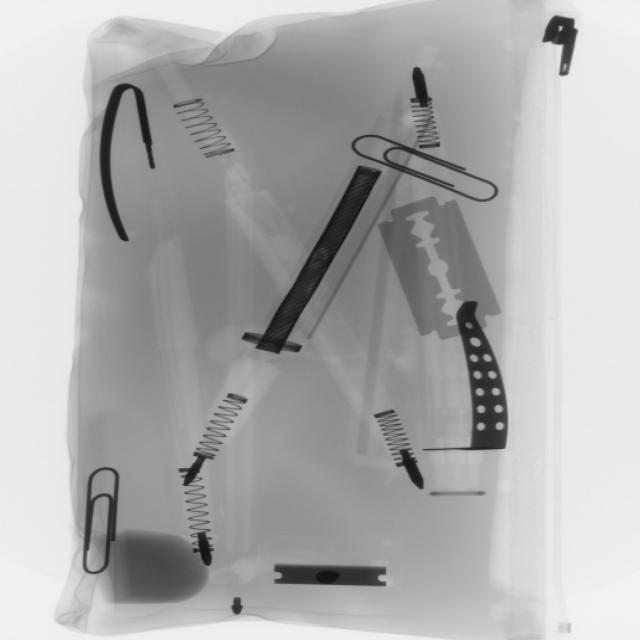BLADE: (377, 184, 508, 352)
